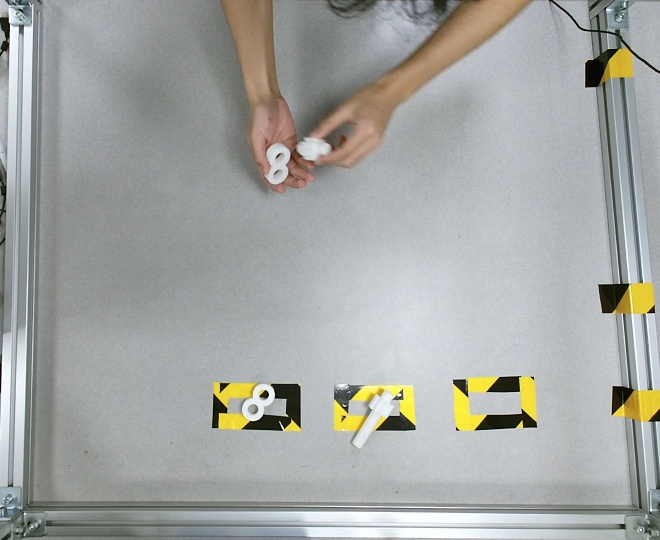stage_1: (265, 142, 290, 184)
